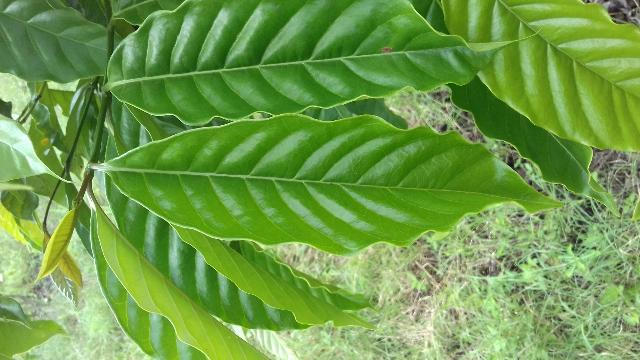healthy: (98, 112, 575, 257)
